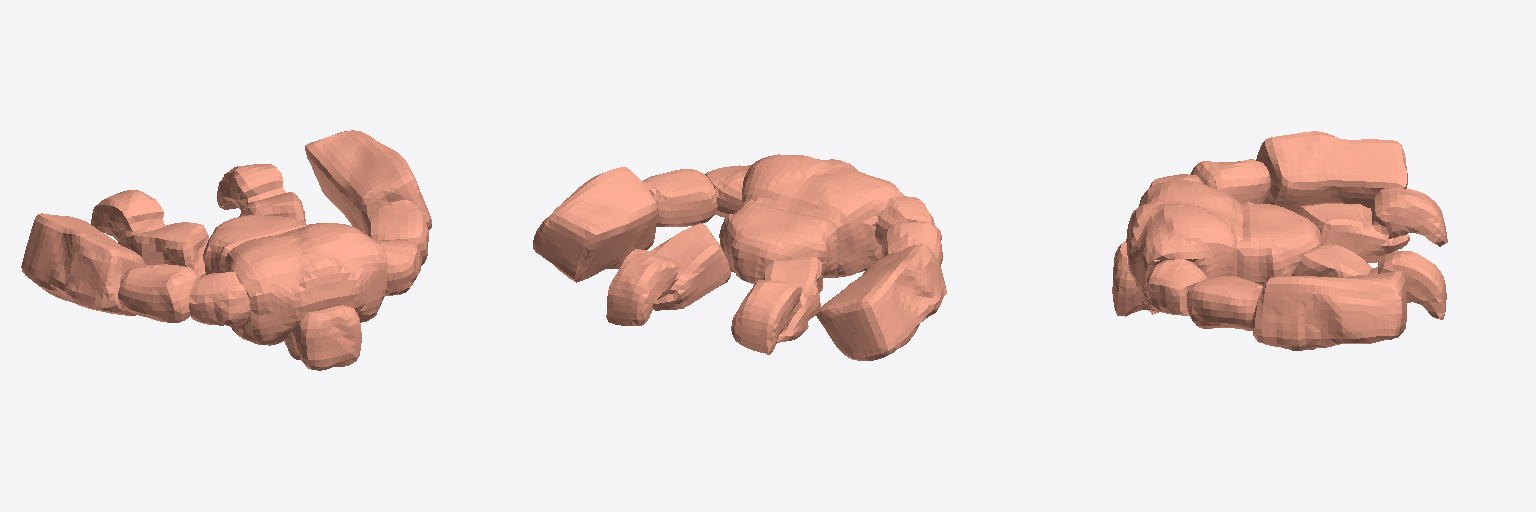
The model's file is ICE.obj.
3 views of the same model, side by side, from view 1: azimuth 30°, elevation 25°; view 2: azimuth 150°, elevation 25°; view 3: azimuth 270°, elevation 25° (orthographic).
Parts seen in each view (by area): view 1: ICE_Default_OBJ.001; view 2: ICE_Default_OBJ.001; view 3: ICE_Default_OBJ.001.
Part boxes in pixels (x1,y1,x2,y2): ICE_Default_OBJ.001: (21,130,431,370); ICE_Default_OBJ.001: (533,154,946,360); ICE_Default_OBJ.001: (1112,131,1447,350).
Size of the model in its own units: 99.02 by 28.42 by 79.75.